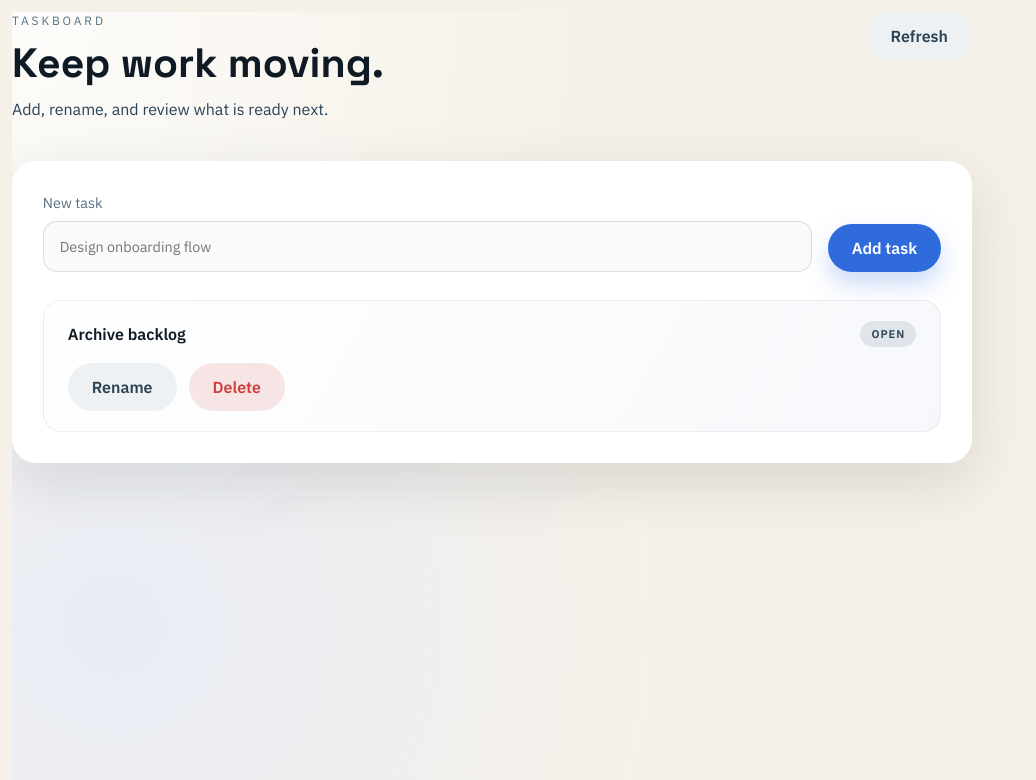
Test: TaskBoard › deletes a task
Expected: the text "Archive backlog" is shown, [68,322,186,346]
Click the button "Delete".
click(237, 388)  # box [188,364,285,412]
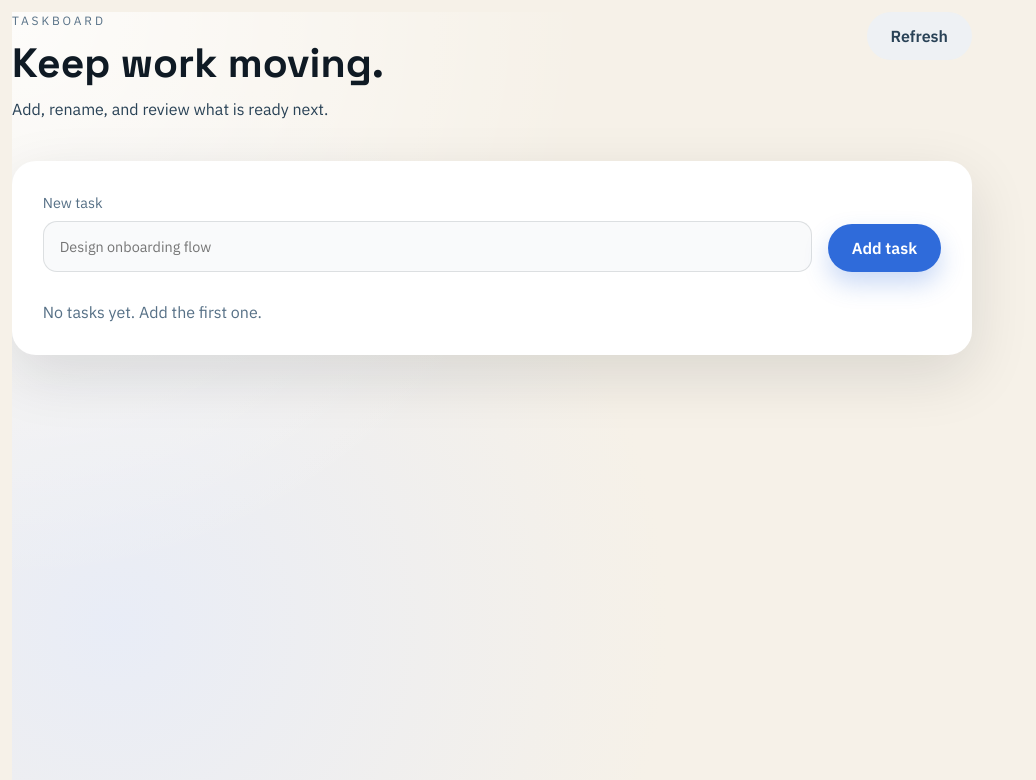
Expected: the text "Archive backlog" is gone
